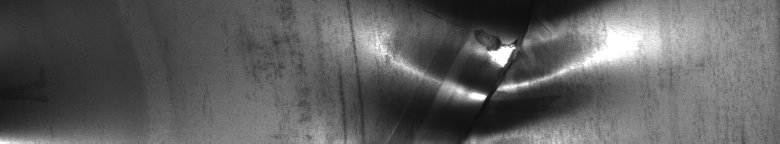ke: (353, 28, 587, 136)
